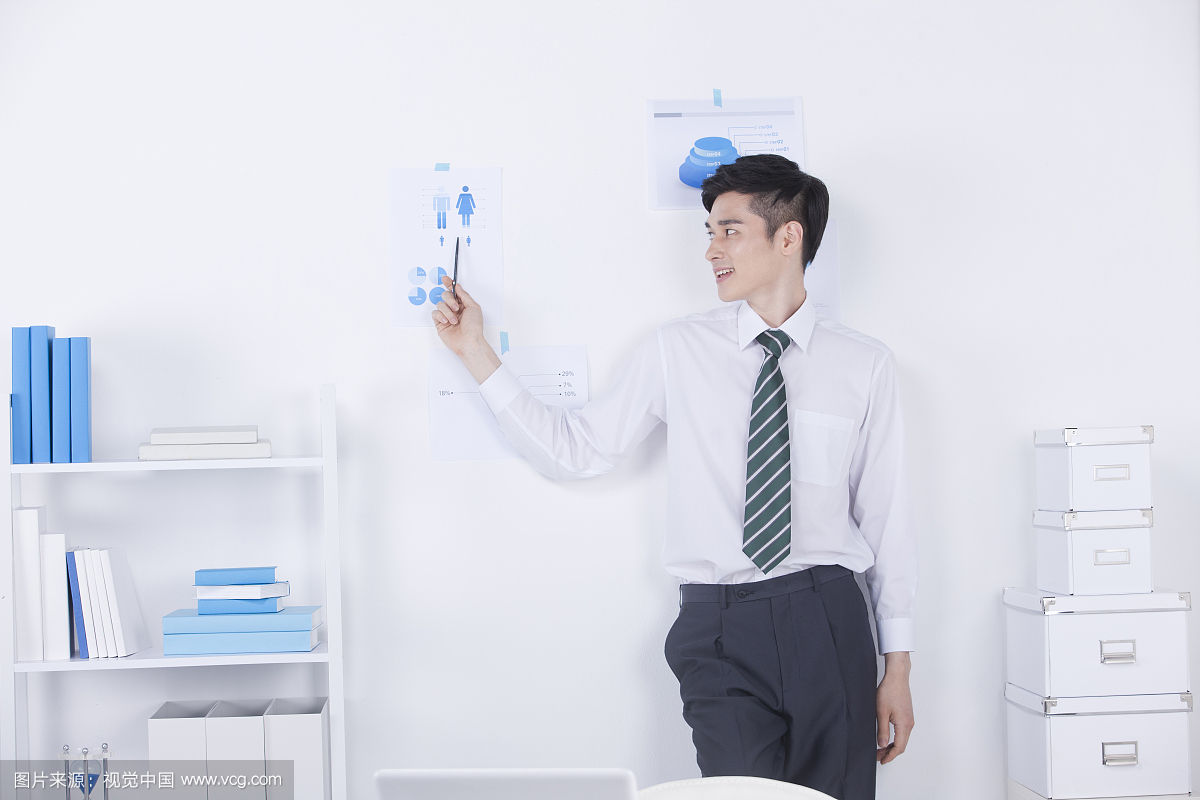handsup: (423, 148, 924, 791)
